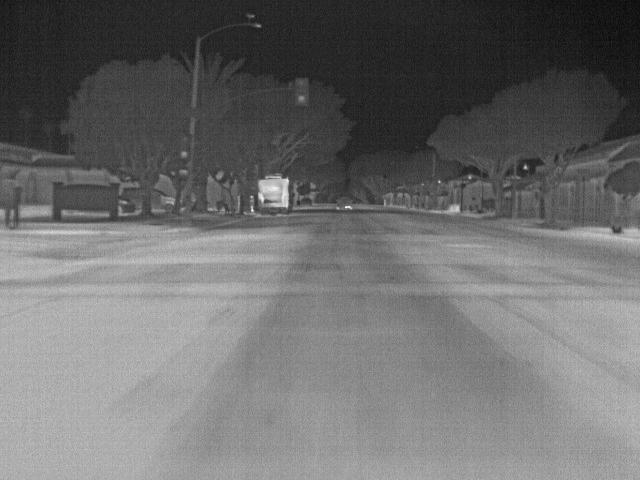car: (152, 186, 175, 212), (114, 195, 136, 215), (335, 196, 354, 212)
person: (3, 174, 24, 230), (248, 193, 257, 212)
